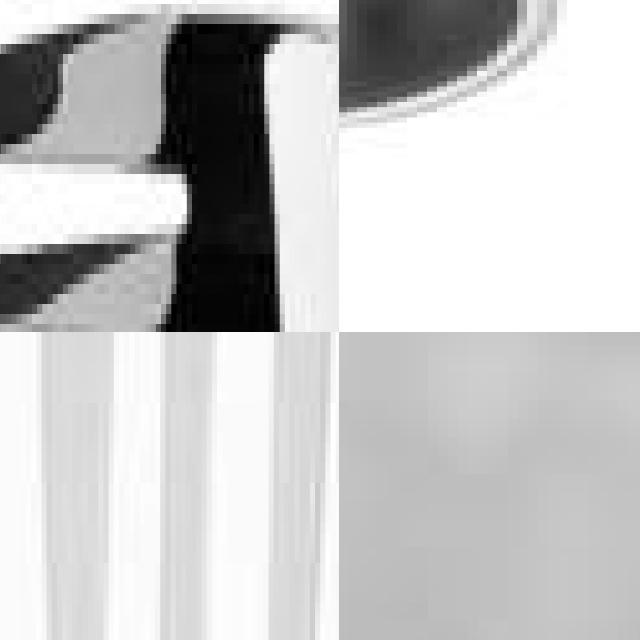forks: (0, 0, 339, 332), (0, 332, 339, 571)
